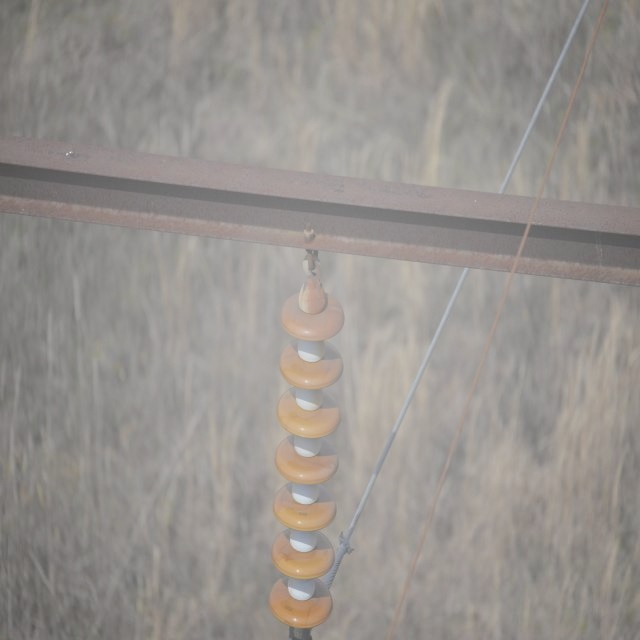insulator: (267, 289, 346, 629)
